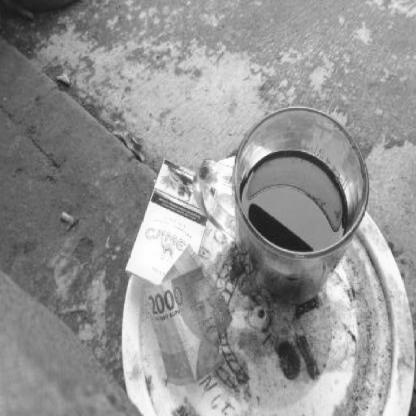objects: (126, 159, 207, 286)
